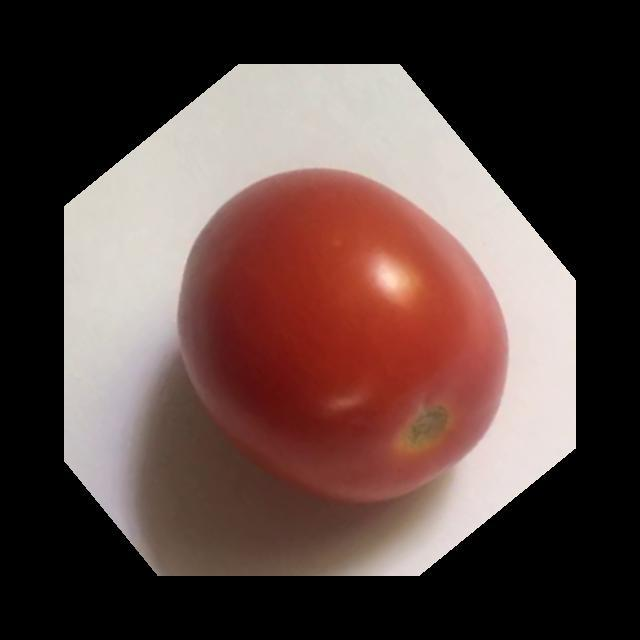tomato: (166, 159, 516, 523)
